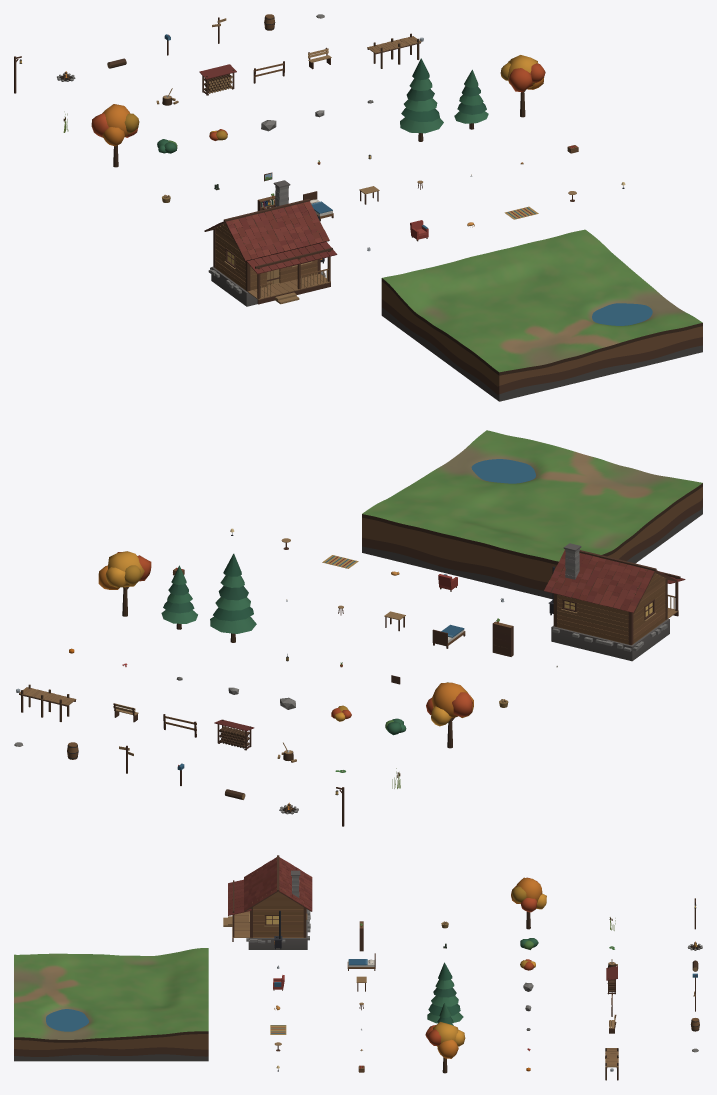
File: kit.glb
The picture shows the model from 3 angles, top to bottom: view 1: azimuth 30°, elevation 25°; view 2: azimuth 150°, elevation 25°; view 3: azimuth 270°, elevation 25°; orthographic projection. The views are drawn at different scales.
Visible parts, largest first — view 1: base_terrain, base_skirt, cabin_roof, pine_a_foliage, cabin_porch, tree_autumn_b_foliage, cabin_porch_roof, tree_autumn_a_foliage, cabin_wall_left, base_water, pine_b_foliage, cabin_wall_front (+3 smaller); view 2: base_terrain, base_skirt, cabin_roof, cabin_wall_back, pine_a_foliage, cabin_floor, tree_autumn_a_foliage, tree_autumn_b_foliage, cabin_wall_left, base_water, pine_b_foliage, woodpile (+2 smaller); view 3: base_terrain, base_skirt, cabin_roof, cabin_wall_right, pine_a_foliage, tree_autumn_a_foliage, tree_autumn_b_foliage, cabin_floor, base_water, cabin_porch_roof, cabin_porch.
Part boxes in pixels (left/top/right/bottom): base_terrain: left=382, top=229, right=702, bottom=372; base_skirt: left=381, top=278, right=702, bottom=401; cabin_roof: left=204, top=199, right=329, bottom=261; pine_a_foliage: left=400, top=58, right=443, bottom=133; cabin_porch: left=247, top=268, right=330, bottom=304; tree_autumn_b_foliage: left=91, top=104, right=139, bottom=146; cabin_porch_roof: left=246, top=241, right=337, bottom=274; tree_autumn_a_foliage: left=500, top=55, right=545, bottom=92; cabin_wall_left: left=215, top=230, right=245, bottom=289; base_water: left=592, top=303, right=652, bottom=325; pine_b_foliage: left=454, top=69, right=488, bottom=123; cabin_wall_front: left=245, top=259, right=320, bottom=291; base_terrain: left=362, top=430, right=702, bottom=561; base_skirt: left=362, top=483, right=702, bottom=599; cabin_roof: left=544, top=549, right=677, bottom=613; cabin_wall_back: left=553, top=594, right=633, bottom=644; pine_a_foliage: left=210, top=553, right=256, bottom=633; cabin_floor: left=551, top=618, right=669, bottom=661; tree_autumn_a_foliage: left=98, top=551, right=151, bottom=589; tree_autumn_b_foliage: left=426, top=682, right=473, bottom=726; cabin_wall_left: left=633, top=580, right=665, bottom=643; base_water: left=471, top=459, right=535, bottom=483; pine_b_foliage: left=161, top=565, right=197, bottom=623; woodpile: left=214, top=719, right=254, bottom=750; base_terrain: left=14, top=948, right=208, bottom=1039; base_skirt: left=14, top=1031, right=208, bottom=1061; cabin_roof: left=244, top=855, right=312, bottom=911; cabin_wall_right: left=253, top=906, right=303, bottom=937; pine_a_foliage: left=427, top=962, right=463, bottom=1023; tree_autumn_a_foliage: left=425, top=1022, right=465, bottom=1058; tree_autumn_b_foliage: left=511, top=877, right=546, bottom=912; cabin_floor: left=246, top=909, right=310, bottom=949; base_water: left=46, top=1009, right=88, bottom=1031; cabin_porch_roof: left=228, top=879, right=251, bottom=915; cabin_porch: left=223, top=911, right=249, bottom=941.
Size of the model in its own units: 28.91 by 7.14 by 49.55.
